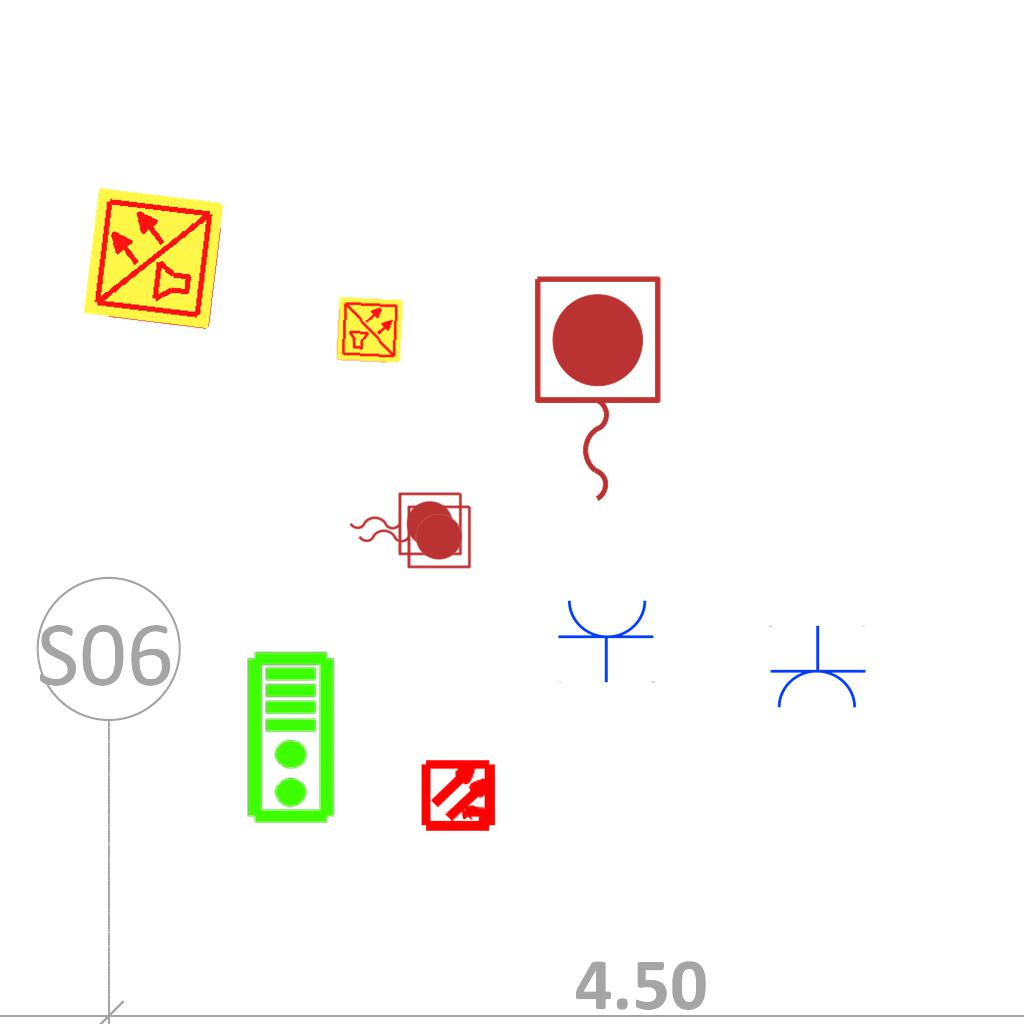Gegensprechanlage_mit_Video: (245, 650, 340, 826)
OKW_Multisensormelder_(Kombination_optischer_Rauch-Kahlenmonoxid_Waerme-Melder): (80, 184, 228, 332), (335, 295, 405, 365)
OT_Multisensormelder_(Kombination_RMO_WMD): (404, 739, 517, 852)
Schukosteckdose_einfach: (767, 625, 867, 712), (557, 596, 657, 683)
Zugtaster: (524, 268, 668, 512), (344, 487, 466, 559), (353, 500, 475, 572)
